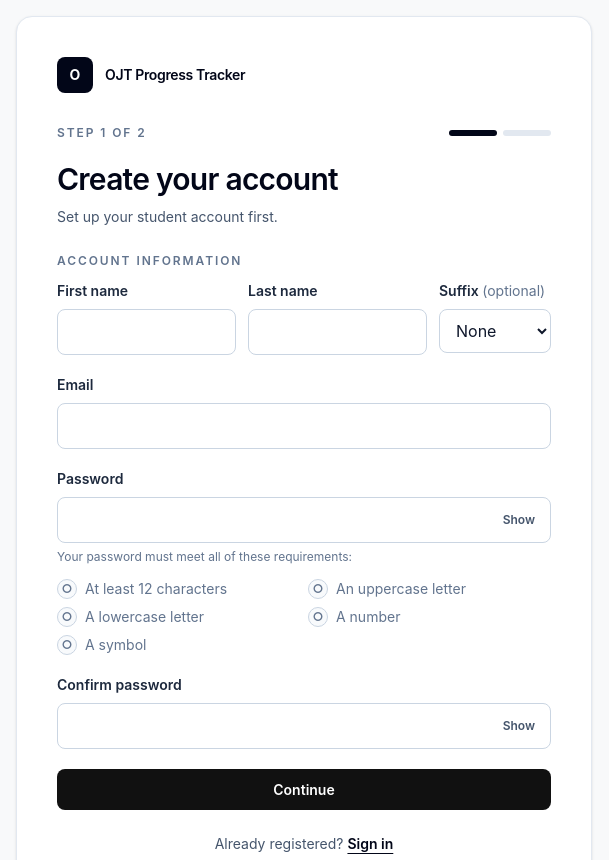
Test case: RegisterView › keeps the user on account setup when the email already exists
Type "New" into the field with id "register-first-name" at (146, 332), box [57,309,236,355]
Type "Student" into the field with id "register-last-name" at (338, 332), box [248,309,427,355]
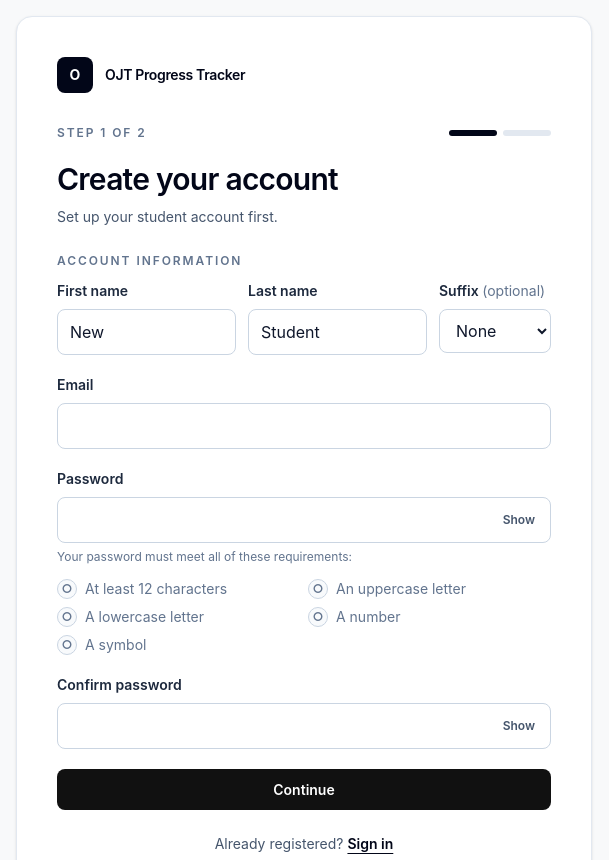
Select "Jr." in the dropdown with id "register-suffix" at (495, 331), box [439,309,551,353]
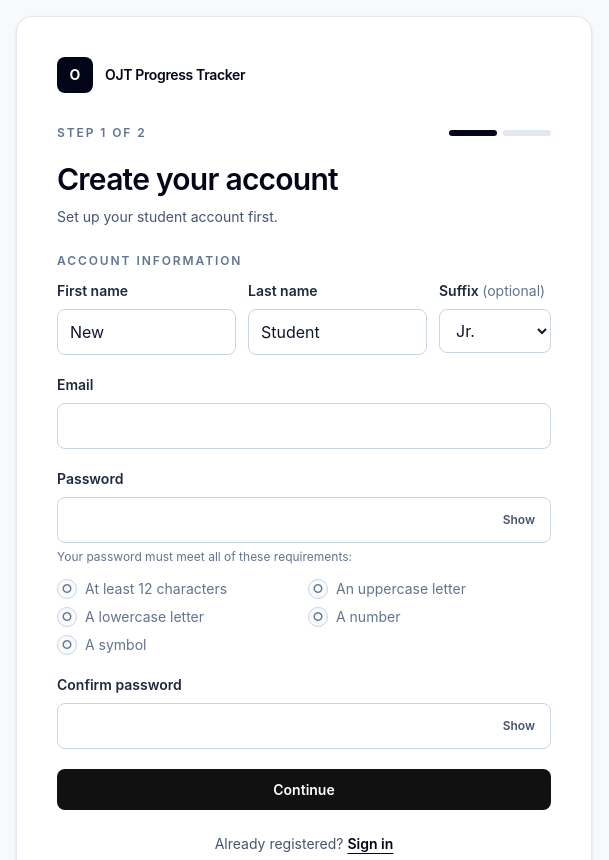
Type "new@example.com" into the field with id "register-email" at (304, 426), box [57,403,551,449]
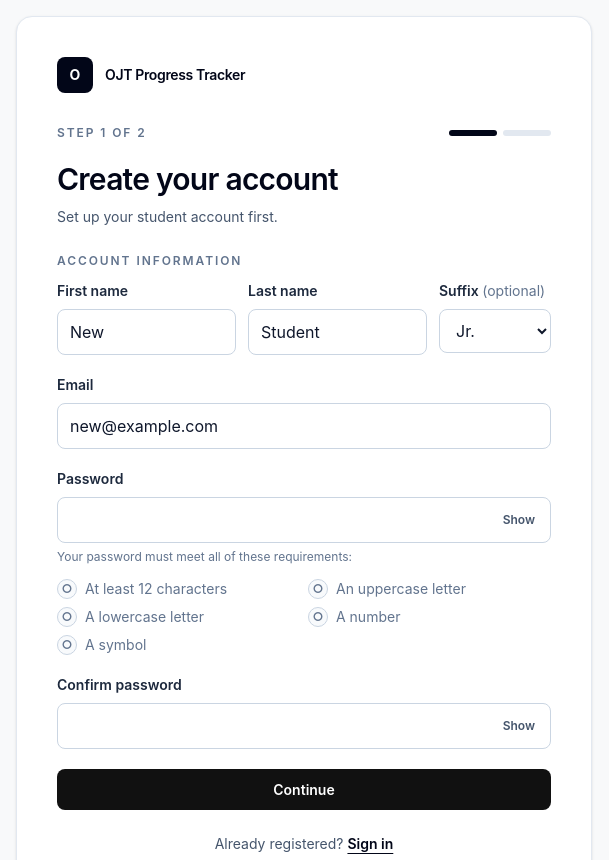
Type "StrongPassword1!" into the password field with id "register-password" at (304, 520), box [57,497,551,543]
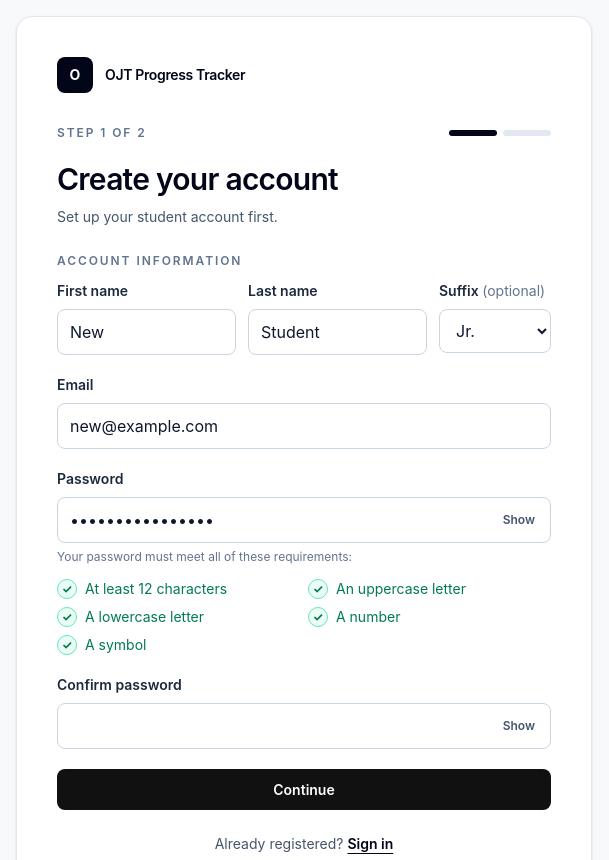
Type "StrongPassword1!" into the password field with id "register-password-confirmation" at (304, 726), box [57,703,551,749]
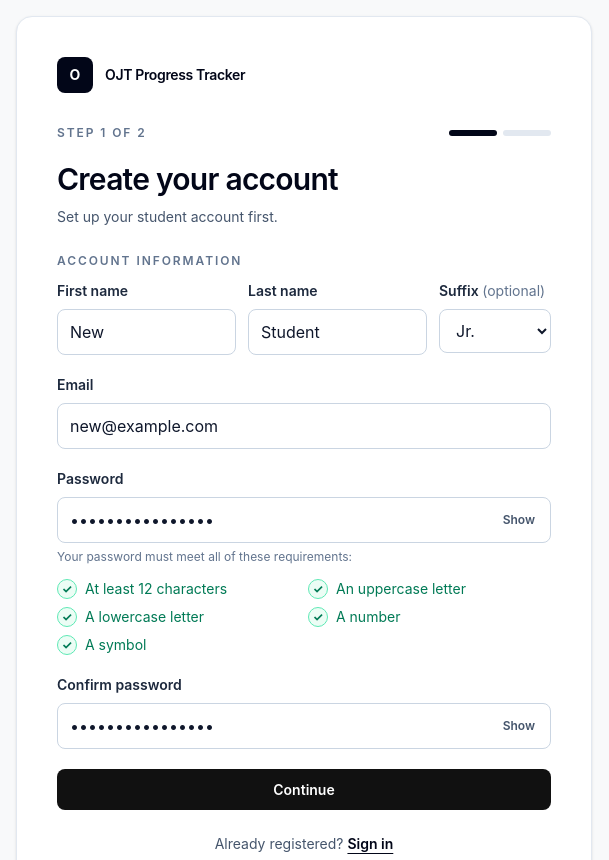
Submit the form with test id "account-setup-form", box [57,281,551,810]
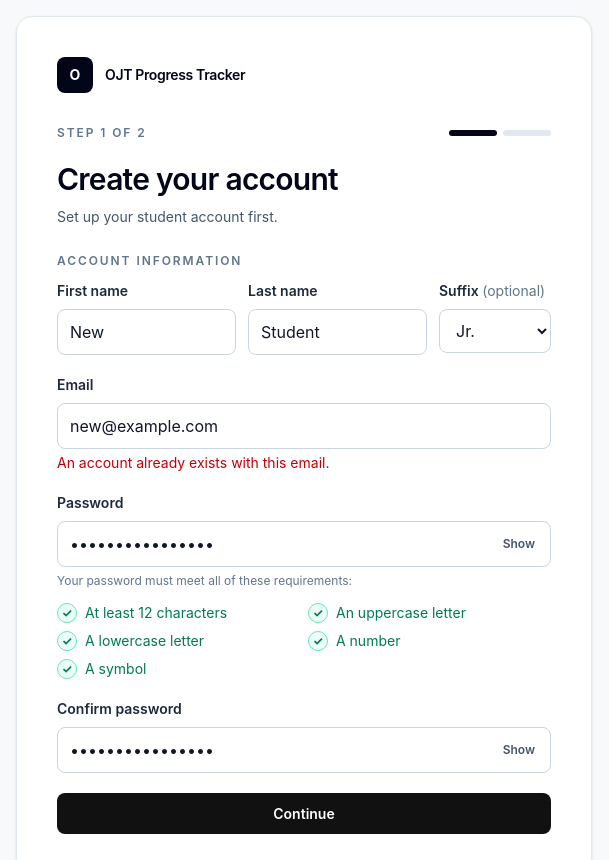
Result: the message with test id "field-error-email" reads "An account already exists with this email." at [57,454,330,471]
